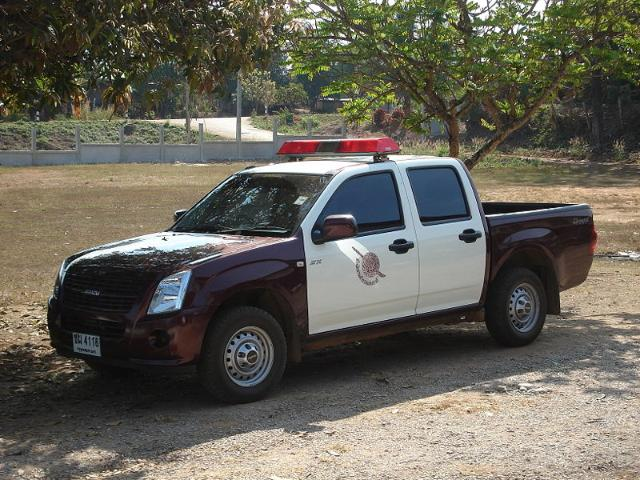pickup-truck: (42, 155, 596, 403)
